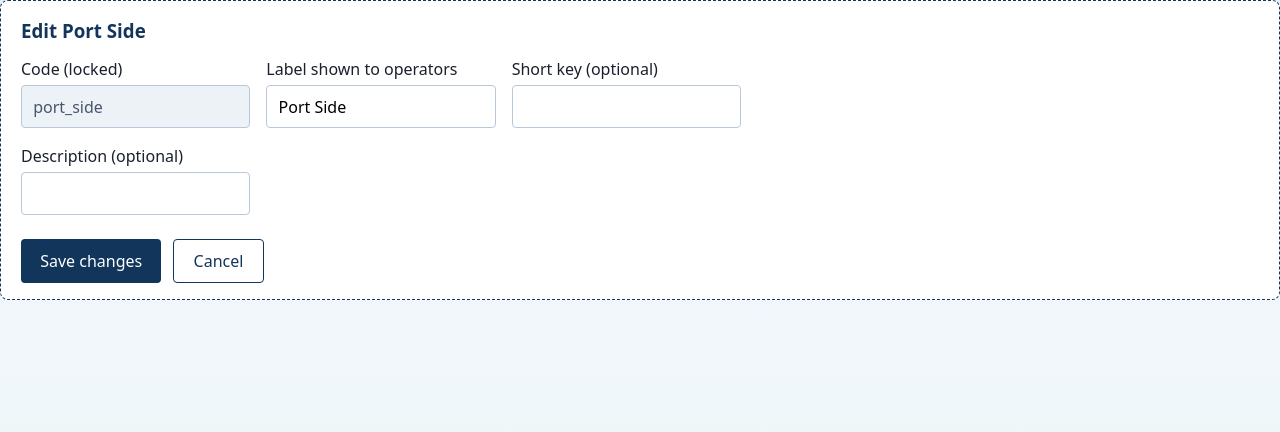
locked code field (editing) › shows the red notice when the field is clicked and hides it when focus leaves
The image size is (1280, 432).
Click the field labelled "Code (locked)" at (136, 107), box [21,85,250,128]
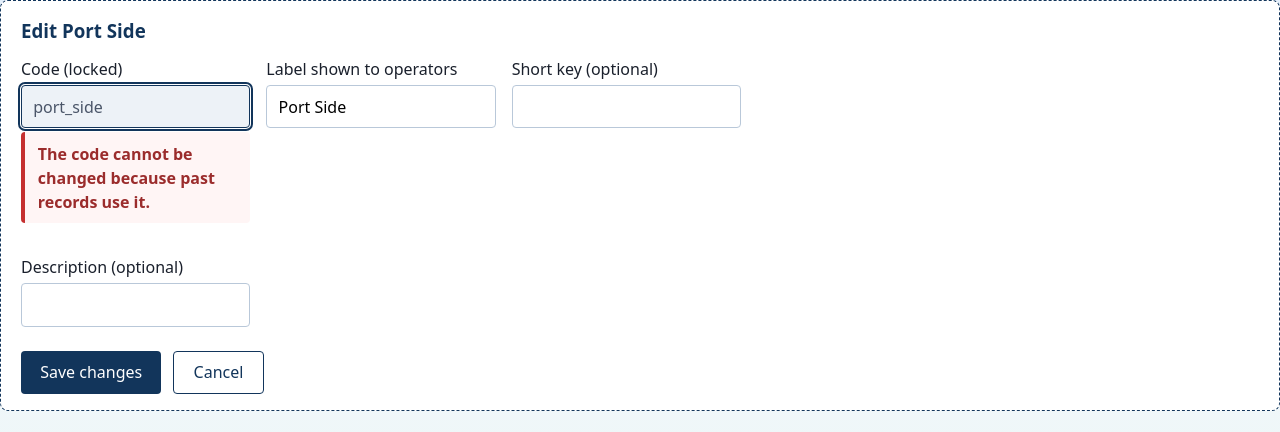
Expected: the message reads "The code cannot be changed because past records use it.", [38,143,215,213]
Press Tab
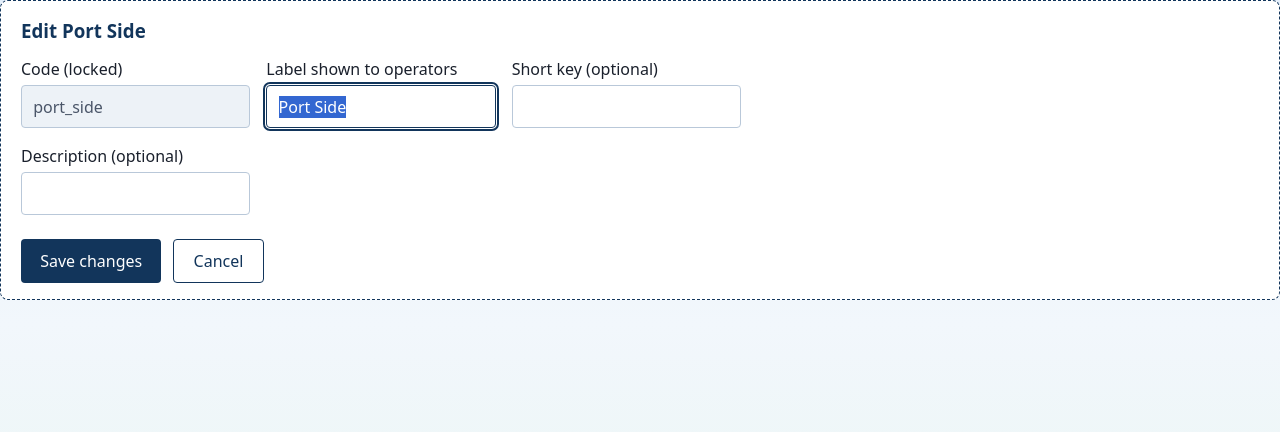
Expected: the text "The code cannot be changed because past records use it." is gone
